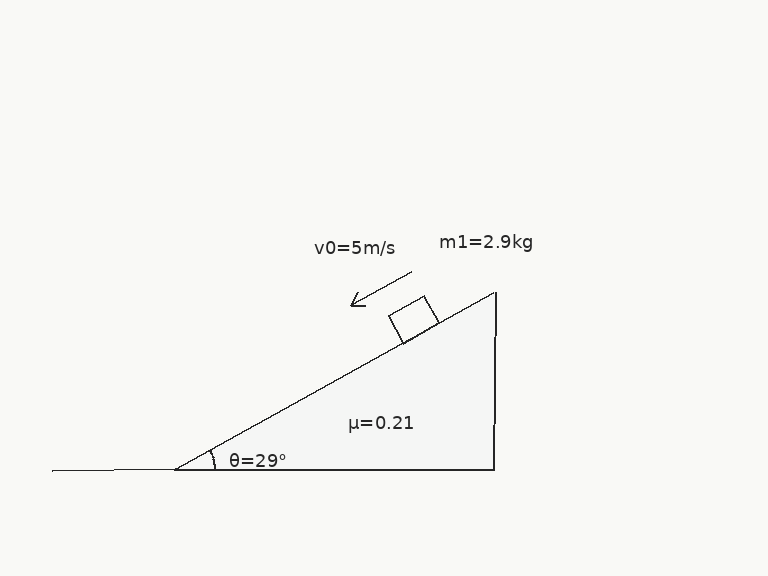block: (386, 294, 441, 345)
ramp: (173, 291, 495, 471)
